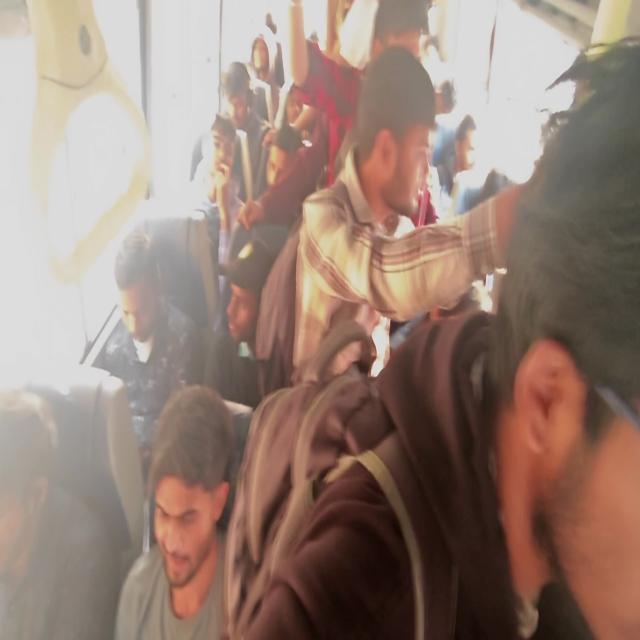person: (508, 159, 640, 640), (134, 409, 251, 640), (0, 388, 99, 640), (358, 75, 434, 238), (114, 240, 180, 386), (215, 252, 262, 356), (204, 130, 252, 218), (386, 0, 439, 57), (224, 63, 266, 125), (262, 138, 303, 192), (250, 33, 301, 76), (471, 165, 502, 232), (449, 120, 485, 174), (278, 91, 314, 142), (441, 74, 470, 122), (266, 7, 286, 35)
